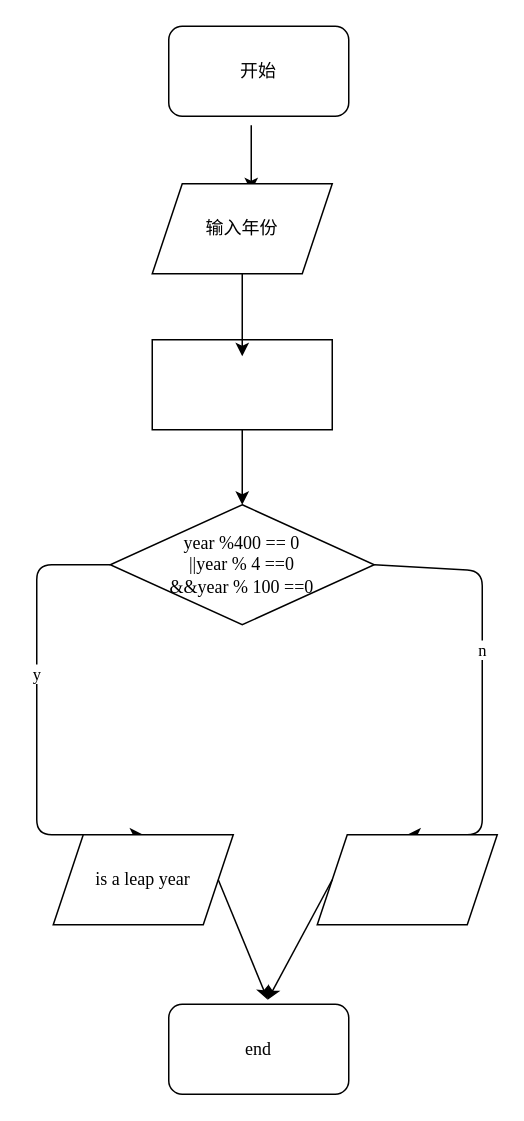
This 524x1121 diagram has some shape labels left out. Here are the shapes that lost their labels. From the top down, the box of each, then its label:
(151, 338, 332, 430): int year
(316, 833, 497, 925): not is leap year
